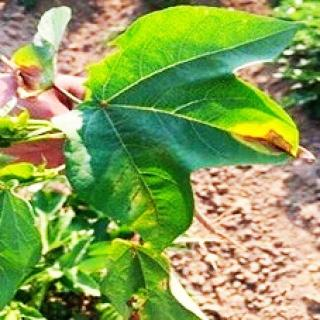wilt: (223, 90, 296, 163), (8, 50, 51, 98)
